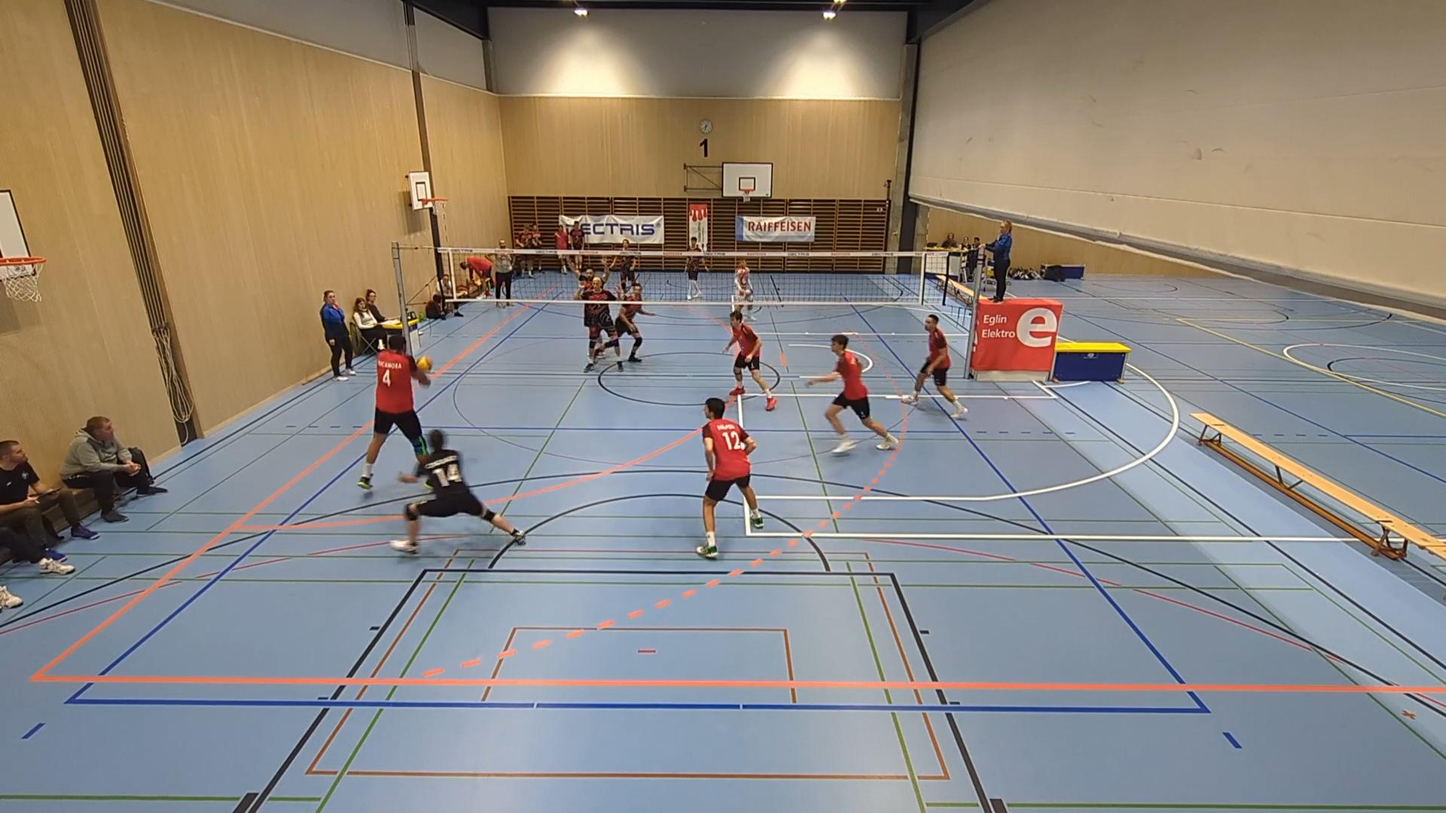Player: (391, 430, 525, 553), (695, 397, 763, 558), (807, 334, 898, 454), (901, 315, 967, 418), (725, 309, 776, 410), (574, 276, 623, 371), (616, 280, 655, 362), (685, 238, 706, 299), (732, 259, 755, 312), (615, 238, 640, 285)
Receive: (355, 329, 437, 497)
ball: (415, 352, 431, 372)
